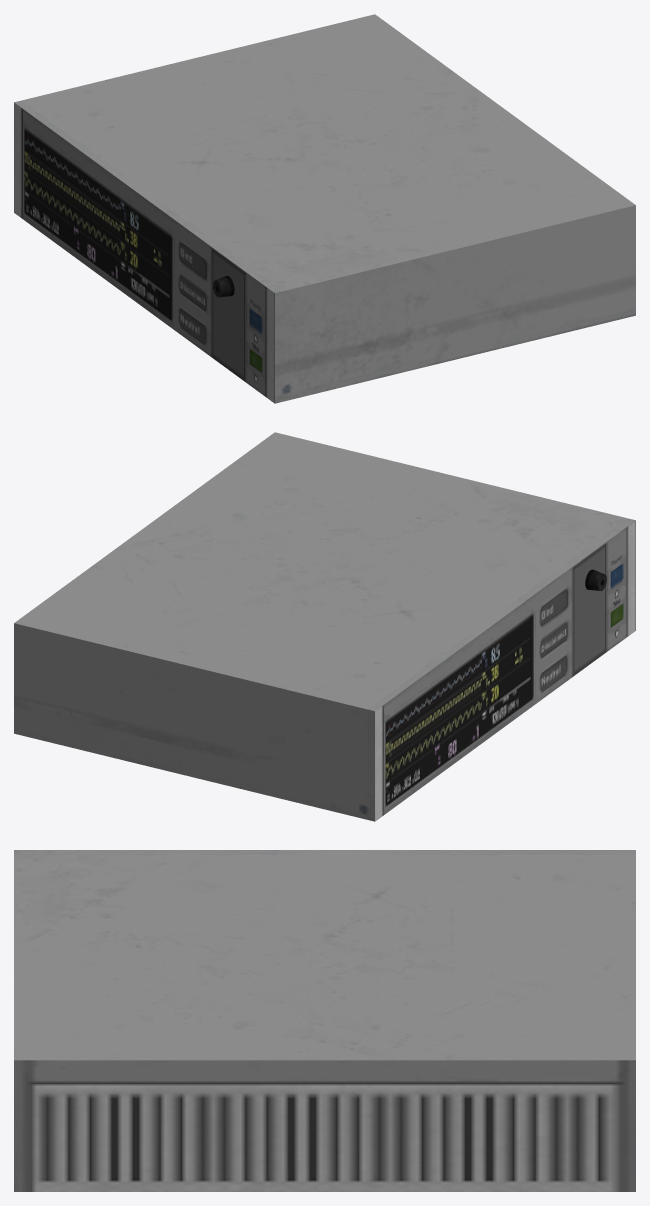
Rendered from HH_Medical_Device_03.fbx.
3 views of the same model, one above another, from view 1: azimuth 30°, elevation 25°; view 2: azimuth 150°, elevation 25°; view 3: azimuth 270°, elevation 25° (orthographic). The views are drawn at different scales.
Parts seen in each view (by area): view 1: HH_Medical_Device_03; view 2: HH_Medical_Device_03; view 3: HH_Medical_Device_03.
Part boxes in pixels (box(x1,y1,x2,y2)): HH_Medical_Device_03: box(14, 14, 635, 403); HH_Medical_Device_03: box(14, 432, 635, 821); HH_Medical_Device_03: box(14, 850, 635, 1191).
Size of the model in its own units: 46.13 by 13.04 by 55.86.
